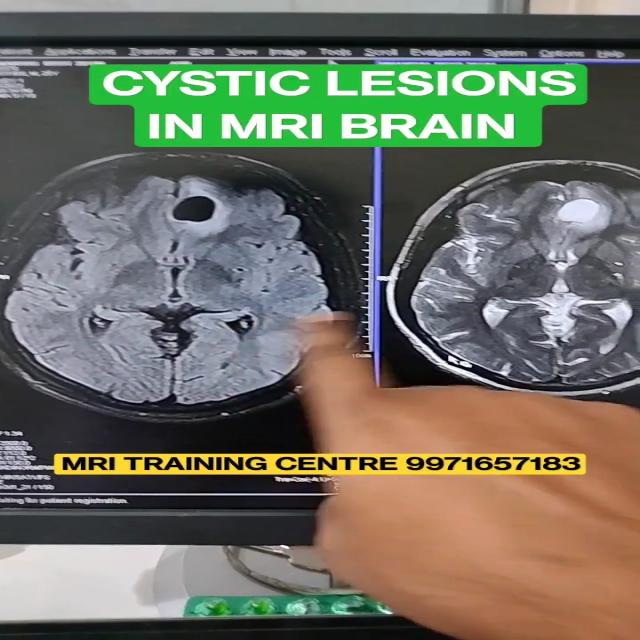tumor: (516, 189, 627, 243), (158, 192, 231, 238)
